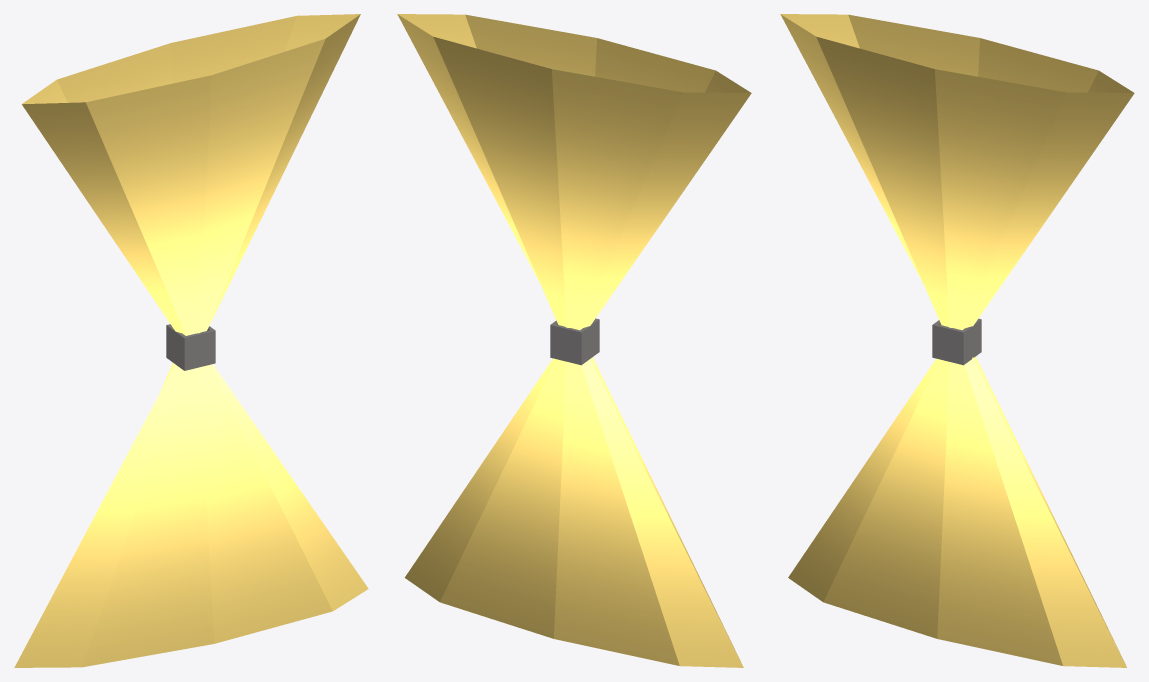
File: LIT0110006.fbx
3 renders of one model, left to right at view 1: azimuth 30°, elevation 25°; view 2: azimuth 150°, elevation 25°; view 3: azimuth 330°, elevation 25°, orthographic.
Parts seen in each view (by area): view 1: smLIT0110006; view 2: smLIT0110006; view 3: smLIT0110006.
Boxes of the visible parts, box(x1,y1,x2,y2) form: smLIT0110006: box(14, 14, 368, 667); smLIT0110006: box(397, 14, 751, 667); smLIT0110006: box(780, 14, 1134, 667).
Bounding box in the file's own units: 141 × 221 × 30.45.
Materials: 1 (1 with a texture image).
